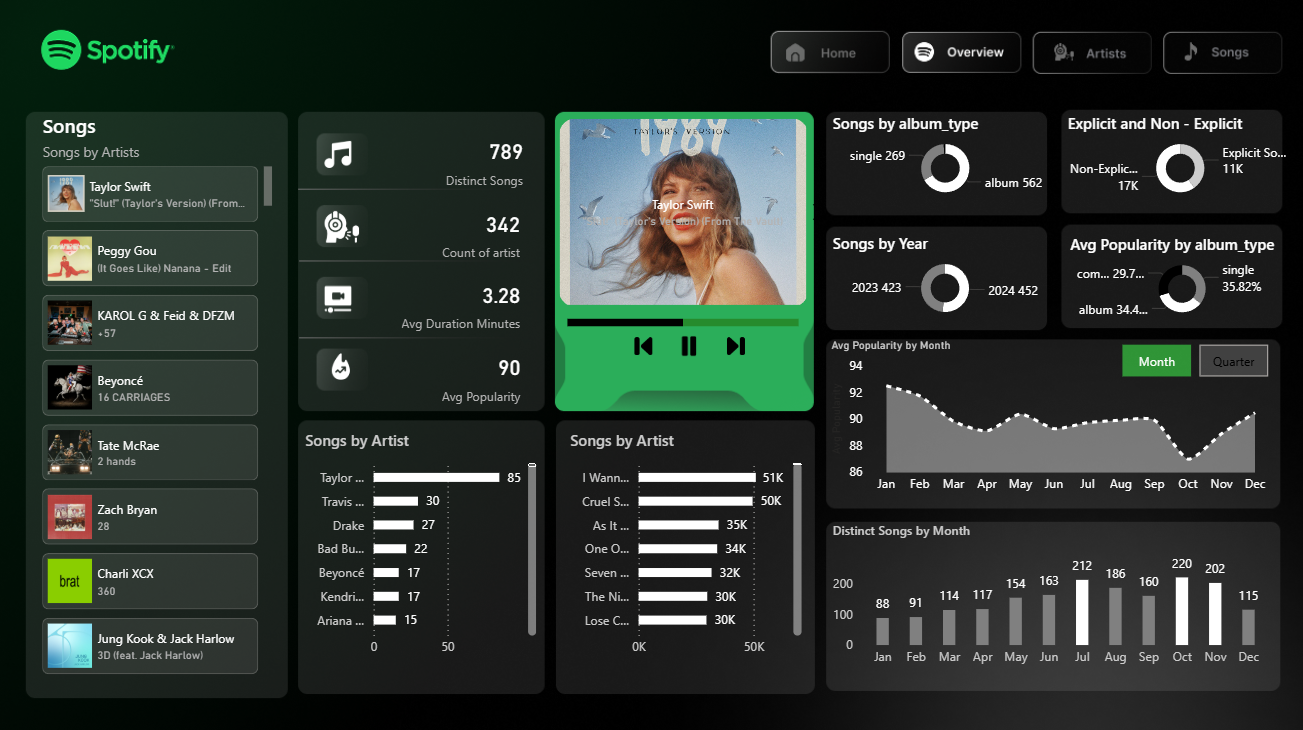

What the dashboard file says about the page in this screenshot:
{"tool":"powerbi","page":{"name":"Overview","canvas":[1280,720],"ordinal":1},"visuals":[{"type":"clusteredBarChart","title":"Songs by Artist","fields":{"Category":["Top-50-World.artist"],"Y":["Top-50-World.Distinct Songs"]},"box":[297.9,422.9,235.7,230],"z":0},{"type":"clusteredBarChart","title":"Songs by Artist","fields":{"Y":["Sum(Top-50-World.popularity)"],"Category":["Top-50-World.song"]},"box":[556,423,236,230],"z":1000},{"type":"areaChart","fields":{"Category":["Top-50-World.Month"],"Y":["_Measures.Avg Popularity"]},"box":[811.1,334.4,436.7,160],"z":2000},{"type":"advancedSlicerVisual","fields":{"Values":["Slicer_Option.Slicer_Option"]},"box":[1095.4,334.9,153.5,41.9],"z":3000},{"type":"donutChart","title":"Songs by album_type","fields":{"Category":["Top-50-World.album_type"],"Y":["Top-50-World.Distinct Songs"]},"box":[811.6,114,230.2,89.5],"z":4000},{"type":"donutChart","title":"Explicit and Non - Explicit","fields":{"Y":["Top-50-World.Explicit Songs","Top-50-World.Non-Explicit Songs"]},"box":[1041.9,114,230.2,89.5],"z":5000},{"type":"donutChart","title":"Songs by Year","fields":{"Y":["Top-50-World.Distinct Songs"],"Category":["Top-50-World.Year"]},"box":[811.9,231,229.8,89.3],"z":6000},{"type":"donutChart","title":"Avg Popularity by album_type","fields":{"Category":["Top-50-World.album_type"],"Y":["_Measures.Avg Popularity"]},"box":[1043.4,231.6,228.9,88.2],"z":7000},{"type":"clusteredColumnChart","fields":{"Category":["Top-50-World.Month"],"Y":["Top-50-World.Distinct Songs"]},"box":[811.8,513.2,435.5,150],"z":8000},{"type":"cardVisual","fields":{"Data":["Top-50-World.Distinct Songs"]},"box":[412.7,122.8,120.2,70.5],"z":9000},{"type":"cardVisual","fields":{"Data":["Count(Top-50-World.artist)"]},"box":[412.7,193.3,117.6,70.5],"z":10000},{"type":"cardVisual","fields":{"Data":["_Measures.Avg Duration Minutes"]},"box":[369.6,263.8,160.7,70.5],"z":11000},{"type":"cardVisual","fields":{"Data":["_Measures.Avg Popularity"]},"box":[410.1,334.4,120.2,70.5],"z":12000},{"type":"image","box":[313.8,343.8,56.2,35],"z":13000},{"type":"image","box":[297.5,203.8,81.2,43.8],"z":14000},{"type":"image","box":[313.8,275,42.5,41.2],"z":15000},{"type":"image","box":[308.8,136.2,52.5,36.2],"z":16000},{"type":"advancedSlicerVisual","title":"Songs ","fields":{"Values":["Top-50-World.song"]},"box":[41,114,234,560],"z":17000},{"type":"hundredPercentStackedBarChart","fields":{"Y":["_Measures.Avg Popularity","Avg(Top-50-World.popularity)"]},"box":[553.3,282.2,235.6,67.8],"z":18000},{"type":"image","box":[702.1,327.1,40,30],"z":19000},{"type":"image","box":[611.8,327.1,40,30],"z":20000},{"type":"image","box":[652,320,50,44.7],"z":21000},{"type":"shape","box":[812.2,240,246.7,297.8],"z":22000},{"type":"actionButton","box":[756,34.4,118.6,39.5],"z":23000},{"type":"actionButton","box":[885.1,34.4,118.6,39.5],"z":24000},{"type":"actionButton","box":[1013,34.4,118.6,39.5],"z":25000},{"type":"actionButton","box":[1140.9,34.4,118.6,39.5],"z":26000},{"type":"shape","box":[547.5,105,258.8,298.8],"z":27000},{"type":"advancedSlicerVisual","title":"Songs ","fields":{"Values":["Top-50-World.song"]},"box":[524.4,114,293,194.2],"z":28000}]}

Visuals, with their boxes in screenshot pixels (x1, y1, x2, y2), scaled from the page's 1280x720 canvas onto the 1303x730 screenshot:
"Songs by Artist" clusteredBarChart: bbox=(303, 429, 543, 662)
"Songs by Artist" clusteredBarChart: bbox=(566, 429, 806, 662)
areaChart - Top-50-World.Month x _Measures.Avg Popularity: bbox=(826, 339, 1270, 501)
advancedSlicerVisual - Slicer_Option.Slicer_Option: bbox=(1115, 340, 1271, 382)
"Songs by album_type" donutChart: bbox=(826, 116, 1061, 206)
"Explicit and Non - Explicit" donutChart: bbox=(1061, 116, 1295, 206)
"Songs by Year" donutChart: bbox=(826, 234, 1060, 325)
"Avg Popularity by album_type" donutChart: bbox=(1062, 235, 1295, 324)
clusteredColumnChart - Top-50-World.Month x Top-50-World.Distinct Songs: bbox=(826, 520, 1270, 672)
cardVisual - Top-50-World.Distinct Songs: bbox=(420, 125, 542, 196)
cardVisual - Count(Top-50-World.artist): bbox=(420, 196, 540, 267)
cardVisual - _Measures.Avg Duration Minutes: bbox=(376, 267, 540, 339)
cardVisual - _Measures.Avg Popularity: bbox=(417, 339, 540, 411)
image: bbox=(319, 349, 377, 384)
image: bbox=(303, 207, 386, 251)
image: bbox=(319, 279, 363, 321)
image: bbox=(314, 138, 368, 175)
"Songs " advancedSlicerVisual: bbox=(42, 116, 280, 683)
hundredPercentStackedBarChart - _Measures.Avg Popularity x Avg(Top-50-World.popularity): bbox=(563, 286, 803, 355)
image: bbox=(715, 332, 755, 362)
image: bbox=(623, 332, 664, 362)
image: bbox=(664, 324, 715, 370)
shape: bbox=(827, 243, 1078, 545)
actionButton: bbox=(770, 35, 890, 75)
actionButton: bbox=(901, 35, 1022, 75)
actionButton: bbox=(1031, 35, 1152, 75)
actionButton: bbox=(1161, 35, 1282, 75)
shape: bbox=(557, 106, 821, 409)
"Songs " advancedSlicerVisual: bbox=(534, 116, 832, 312)
